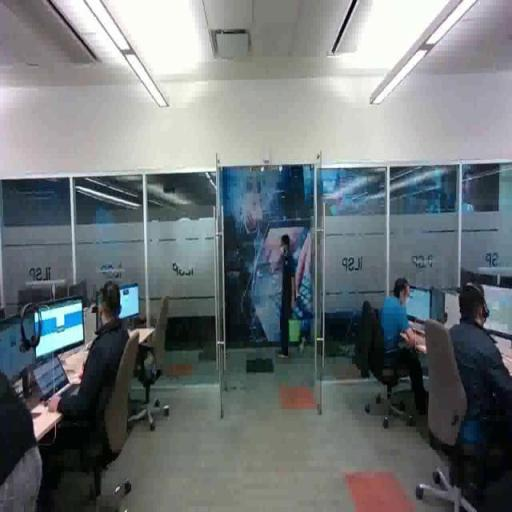person: (43, 279, 146, 504), (443, 273, 512, 512), (373, 278, 434, 408), (272, 231, 311, 364)
